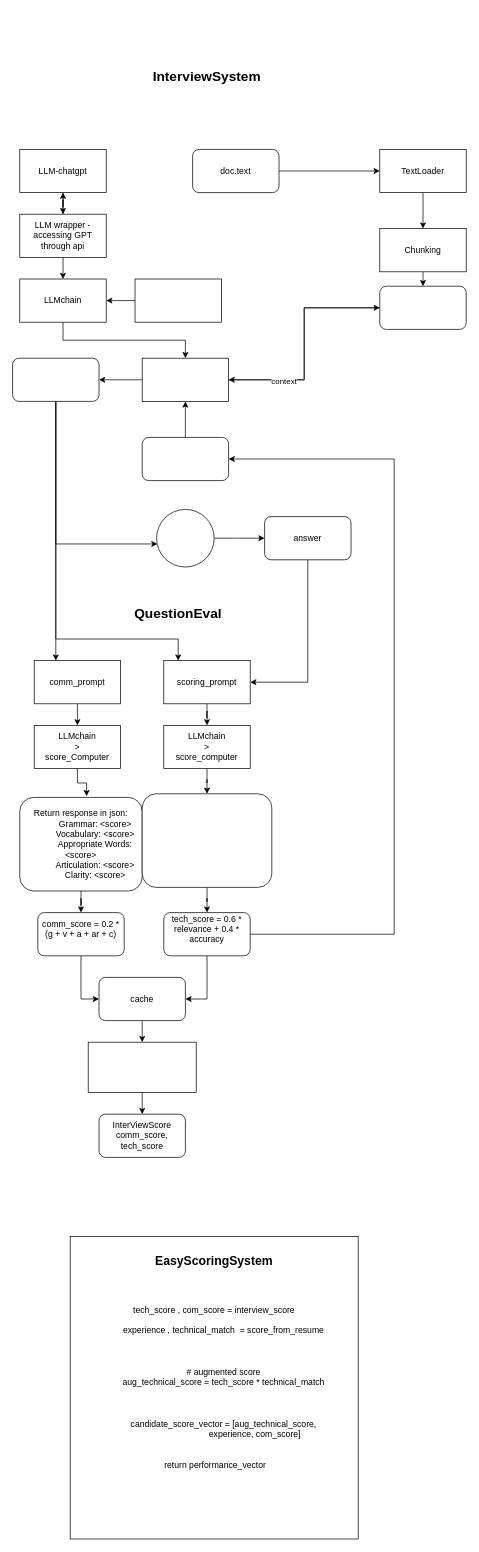
Some shapes in this 479 by 1552 pixel diagram are drawn without their labels. The centre of each missing label's shape, as x and y in pixels:
aggregateScoreComputer: the point at 141,1067
question: the point at 55,379
Question_Prompt: the point at 177,300
QuestionGenerator: the point at 185,379
Return response in json : Relevance: <score> Accuracy: <score>: the point at 206,840
state,level,concept: the point at 185,459
user: the point at 185,538
vectorstore: the point at 422,307
